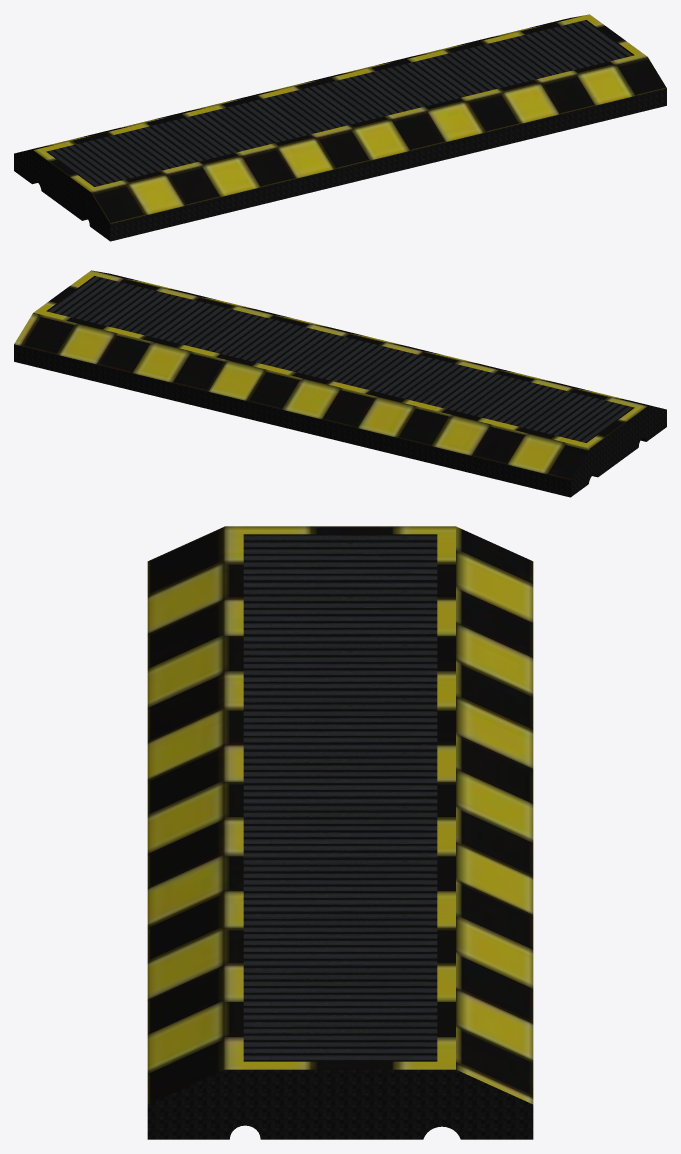
The model's file is cable-tray.gltf.
3 views of the same model, one above another, from view 1: azimuth 30°, elevation 25°; view 2: azimuth 150°, elevation 25°; view 3: azimuth 270°, elevation 25° (orthographic). The views are drawn at different scales.
Parts seen in each view (by area): view 1: Sketchfab_model; view 2: Sketchfab_model; view 3: Sketchfab_model.
Part boxes in pixels (left/top/right/bottom): Sketchfab_model: left=14, top=14, right=666, bottom=241; Sketchfab_model: left=14, top=270, right=666, bottom=497; Sketchfab_model: left=147, top=526, right=533, bottom=1139.
Bounding box in the file's own units: 0.9832 × 0.0589 × 0.2949.
Materials: 3 (3 with a texture image).
